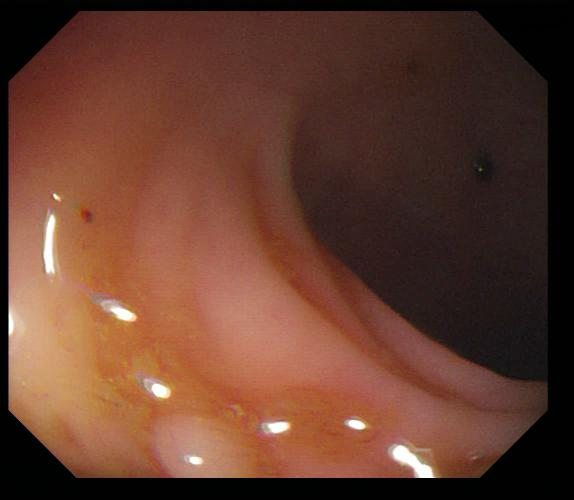polyp: (147, 403, 264, 483)
